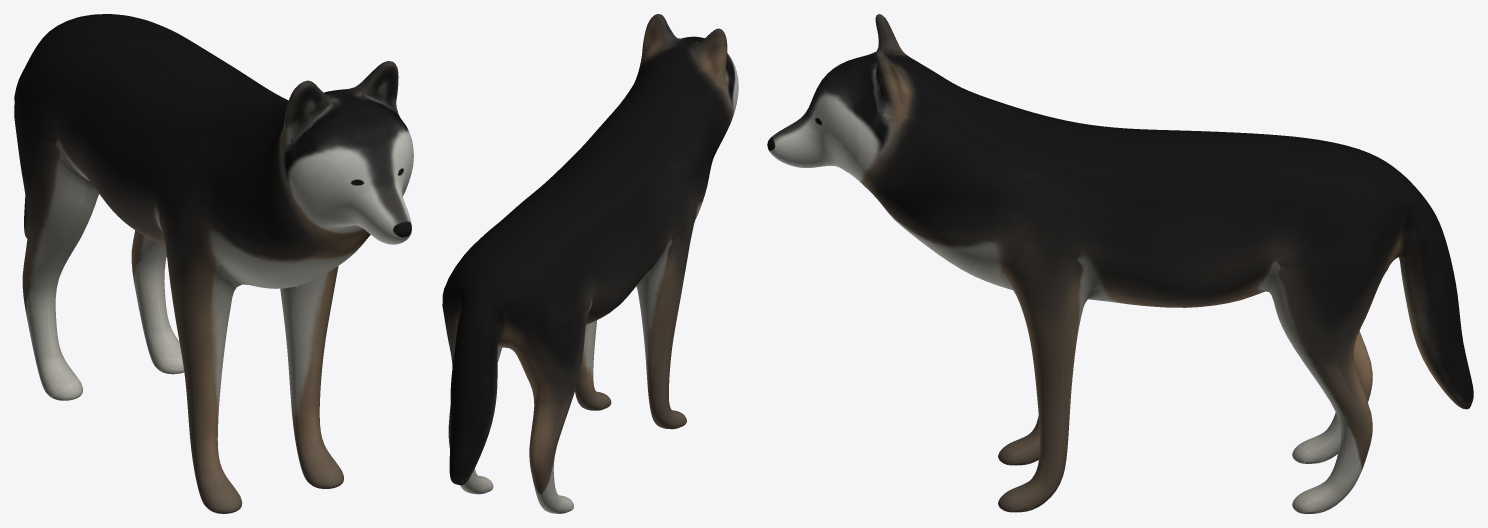
The model's file is Wolves.obj.
The picture shows the model from 3 angles, left to right: view 1: azimuth 30°, elevation 25°; view 2: azimuth 150°, elevation 25°; view 3: azimuth 270°, elevation 25°; orthographic projection. The views are drawn at different scales.
Visible parts, largest first — view 1: Default; view 2: Default; view 3: Default.
Boxes of the visible parts, x1,y1,x2,y2 form: Default: (14, 14, 413, 513); Default: (442, 14, 738, 513); Default: (767, 14, 1473, 513).
Bounding box in the file's own units: 0.2266 × 0.6151 × 0.8738.
1 material, 1 textured.
